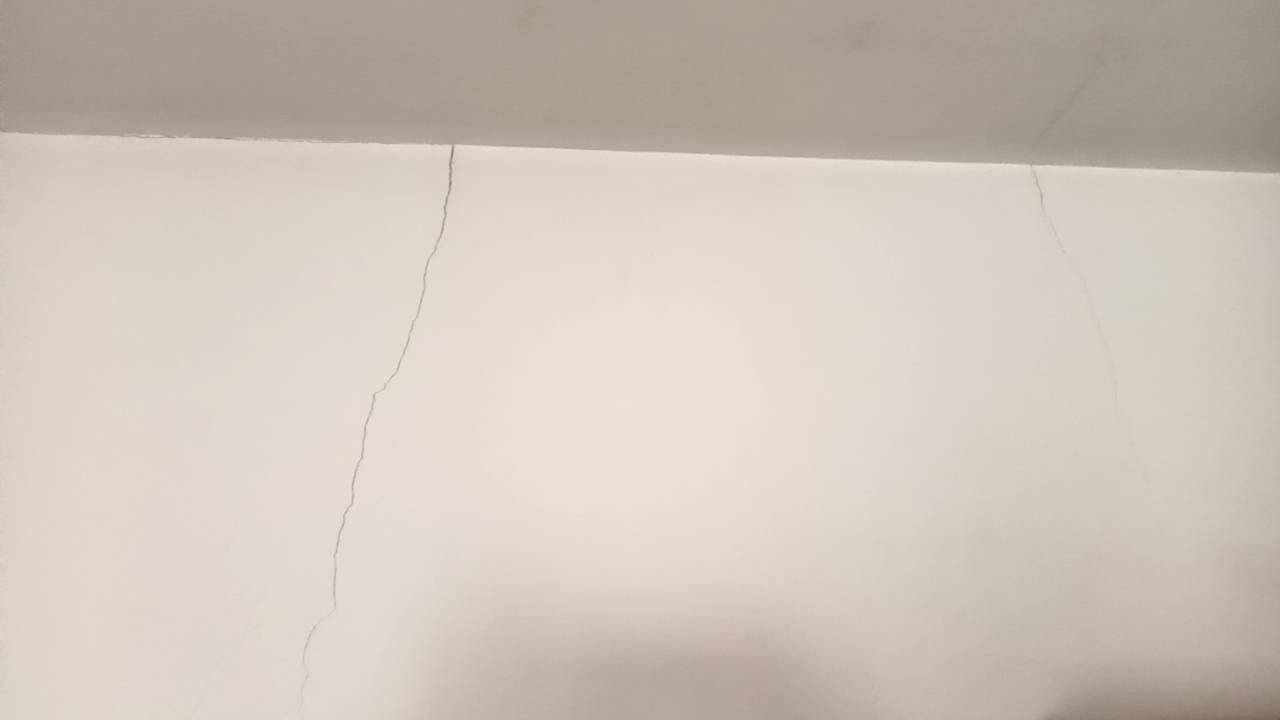Low: (294, 141, 465, 720)
